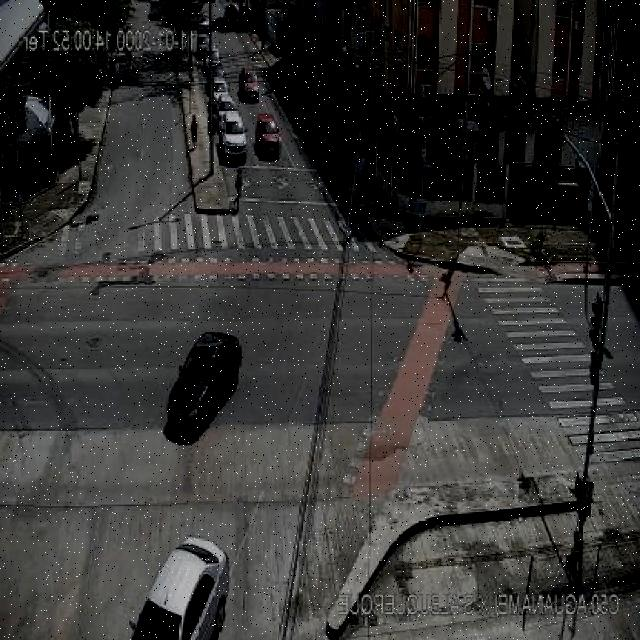Car: (126, 538, 232, 638), (164, 332, 243, 444), (217, 110, 248, 161), (254, 113, 280, 158), (208, 74, 232, 107), (239, 66, 260, 101), (196, 21, 212, 59), (202, 46, 222, 76), (112, 52, 130, 81)
